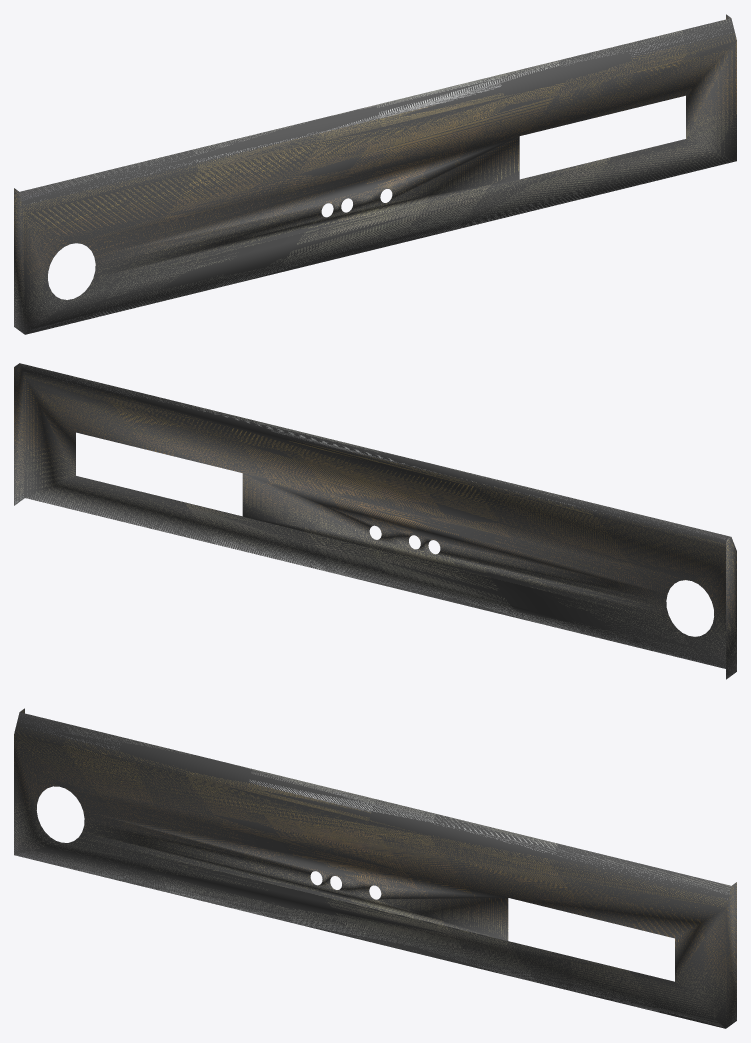
File: original-93.obj
3 renders of one model, top to bottom at view 1: azimuth 30°, elevation 25°; view 2: azimuth 150°, elevation 25°; view 3: azimuth 330°, elevation 25°, orthographic.
Visible parts, largest first — view 1: mesh26/mesh26-geometry/material_1#mesh26-geometry; view 2: mesh26/mesh26-geometry/material_1#mesh26-geometry; view 3: mesh26/mesh26-geometry/material_1#mesh26-geometry.
Boxes of the visible parts, box(x1,y1,x2,y2) form: mesh26/mesh26-geometry/material_1#mesh26-geometry: box(14, 14, 736, 334); mesh26/mesh26-geometry/material_1#mesh26-geometry: box(14, 363, 736, 679); mesh26/mesh26-geometry/material_1#mesh26-geometry: box(14, 708, 736, 1028).
Bounding box in the file's own units: 1.15 × 0.2143 × 0.0309.
